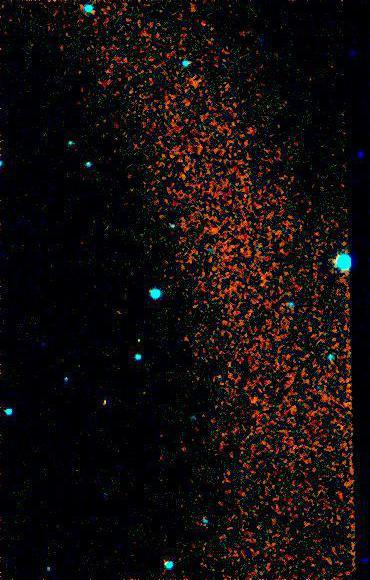star: (199, 217, 229, 247)
